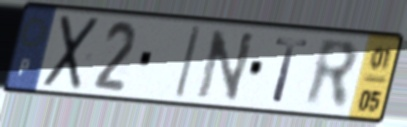2: (91, 19, 138, 95)
I: (172, 24, 204, 102)
N: (194, 28, 258, 104)
R: (302, 35, 361, 112)
T: (270, 35, 312, 105)
X: (38, 12, 103, 93)
